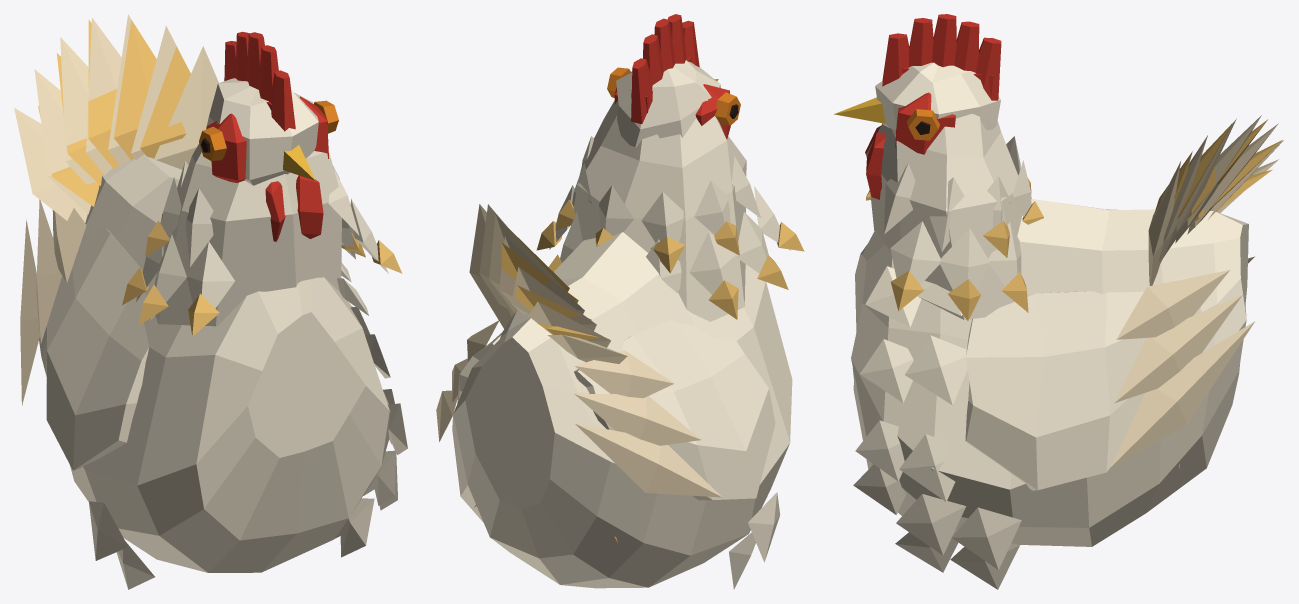
Rendered from chicken-rest.glb.
The picture shows the model from 3 angles, left to right: view 1: azimuth 30°, elevation 25°; view 2: azimuth 150°, elevation 25°; view 3: azimuth 270°, elevation 25°; orthographic projection. The views are drawn at different scales.
Parts seen in each view (by area): view 1: body, wing_r, tail_under, neck, tail, hackles, breast_plates, head, wing_r_plates, comb, hackle_tips, wattle (+3 smaller); view 2: body, wing_r, neck, wing_r_plates, hackles, tail_under, head, hackle_tips, comb, tail, breast_plates, wing_l_plates (+3 smaller); view 3: body, wing_l, breast_plates, wing_l_plates, neck, hackles, tail_under, comb, head, hackle_tips, tail, face (+3 smaller).
Part boxes in pixels (x1,y1,x2,y2): body: (39, 154, 390, 572); wing_r: (46, 228, 149, 470); tail_under: (14, 14, 218, 222); neck: (154, 121, 341, 326); tail: (38, 20, 190, 206); hackles: (136, 161, 388, 320); breast_plates: (89, 263, 407, 589); head: (206, 78, 318, 185); wing_r_plates: (20, 199, 86, 405); comb: (224, 31, 295, 131); hackle_tips: (122, 213, 402, 336); wattle: (265, 175, 323, 241); body: (452, 232, 792, 588); wing_r: (574, 320, 775, 500); neck: (571, 99, 746, 321); wing_r_plates: (574, 350, 721, 497); hackles: (549, 136, 790, 294); tail_under: (469, 204, 627, 363); head: (616, 60, 720, 148); hackle_tips: (536, 199, 804, 319); comb: (631, 14, 699, 123); tail: (501, 228, 609, 339); breast_plates: (729, 492, 780, 589); wing_l_plates: (436, 320, 498, 441); body: (851, 199, 1248, 546); wing_l: (965, 275, 1201, 490); breast_plates: (853, 266, 1021, 589); wing_l_plates: (1111, 270, 1254, 466); neck: (866, 113, 1022, 319); hackles: (884, 136, 1031, 305); tail_under: (1148, 115, 1283, 285); comb: (882, 14, 1001, 100); head: (875, 62, 1000, 130); hackle_tips: (866, 178, 1043, 320); tail: (1154, 119, 1282, 223); face: (895, 92, 955, 154).
Bounding box in the file's own units: 0.2059 × 0.3632 × 0.2819.
